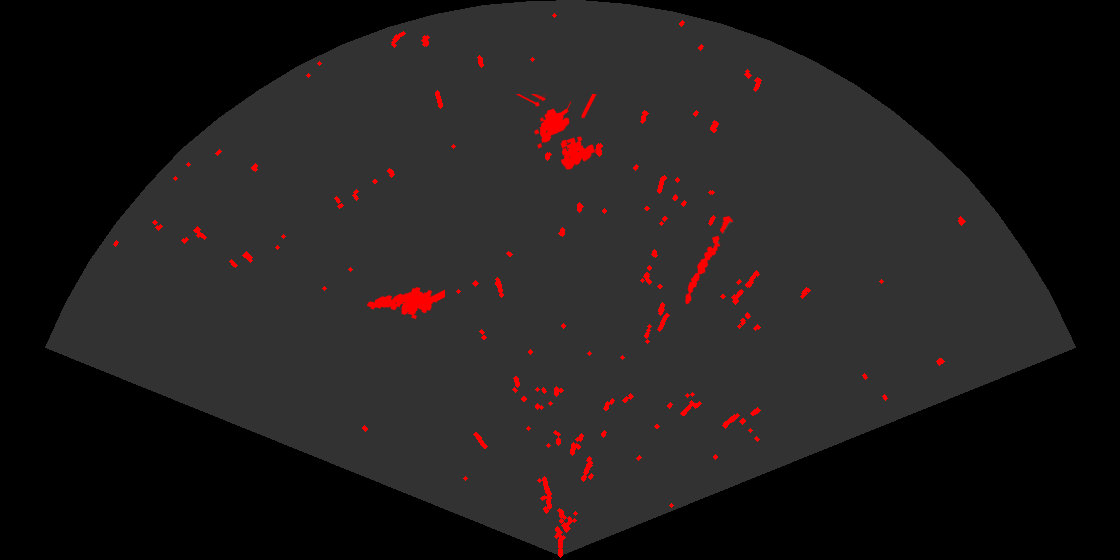cage: (515, 94, 598, 171)
chain: (683, 214, 735, 306)
frogman: (365, 285, 445, 321)
